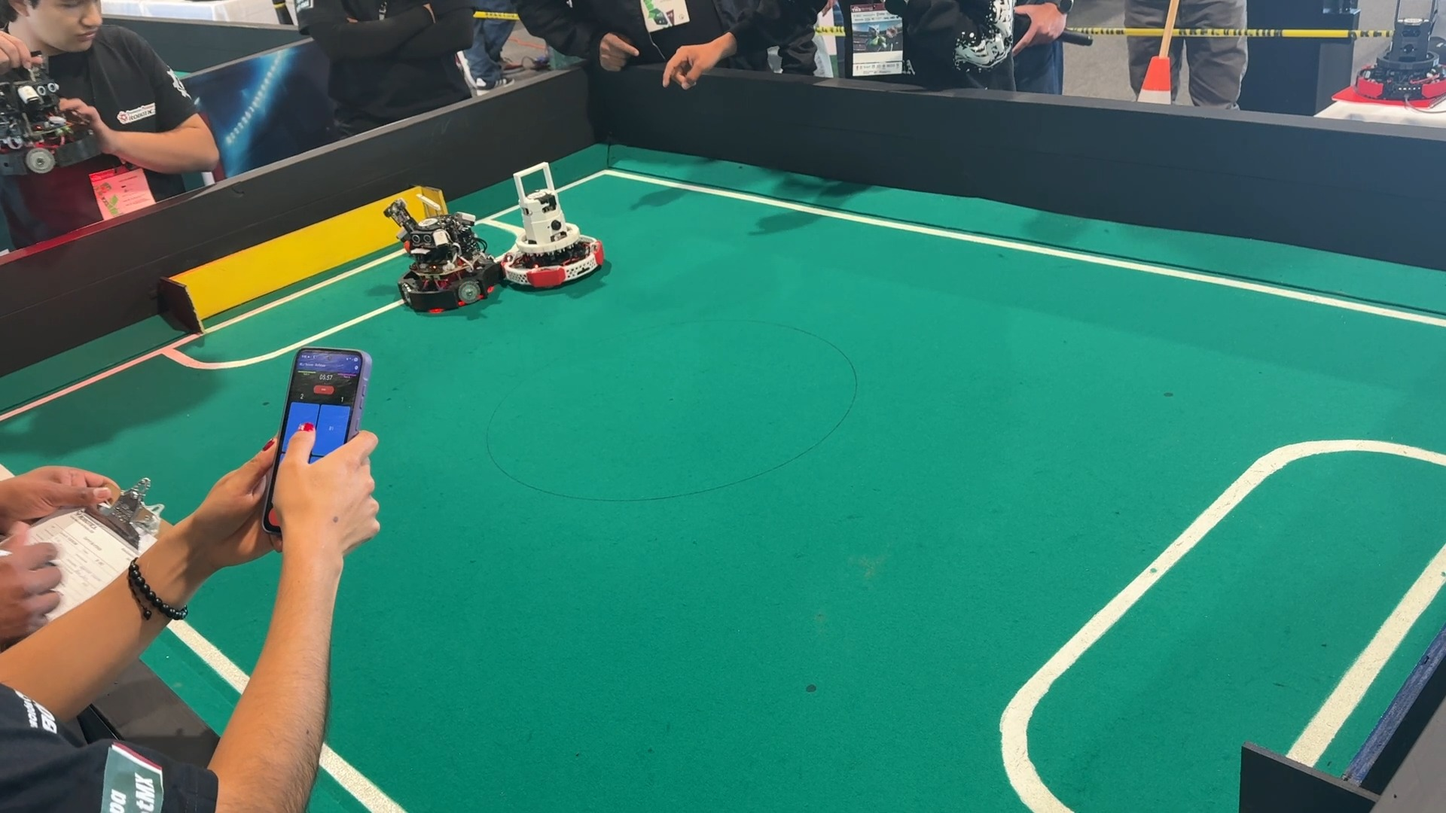Robot: (372, 186, 515, 338), (496, 156, 619, 303), (0, 51, 99, 184)
